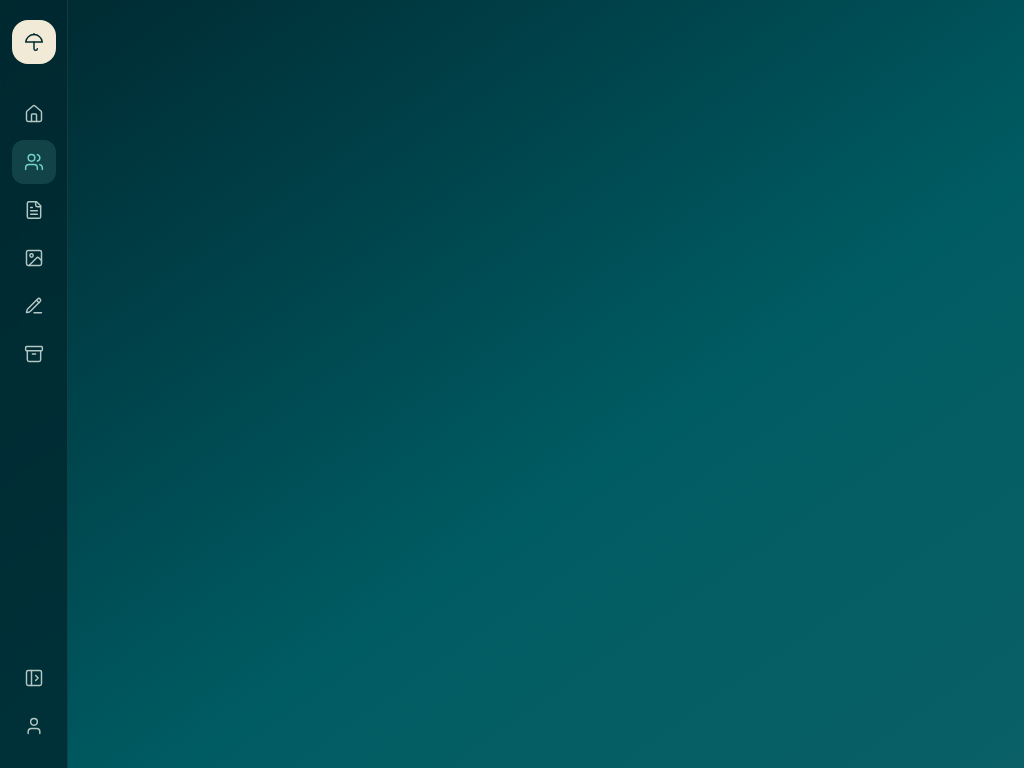
Test case: SideNav › starts collapsed and expands on toggle, persisting the choice
Click the button named "expand navigation": [34, 678] box x1=12 y1=656 x2=56 y2=700
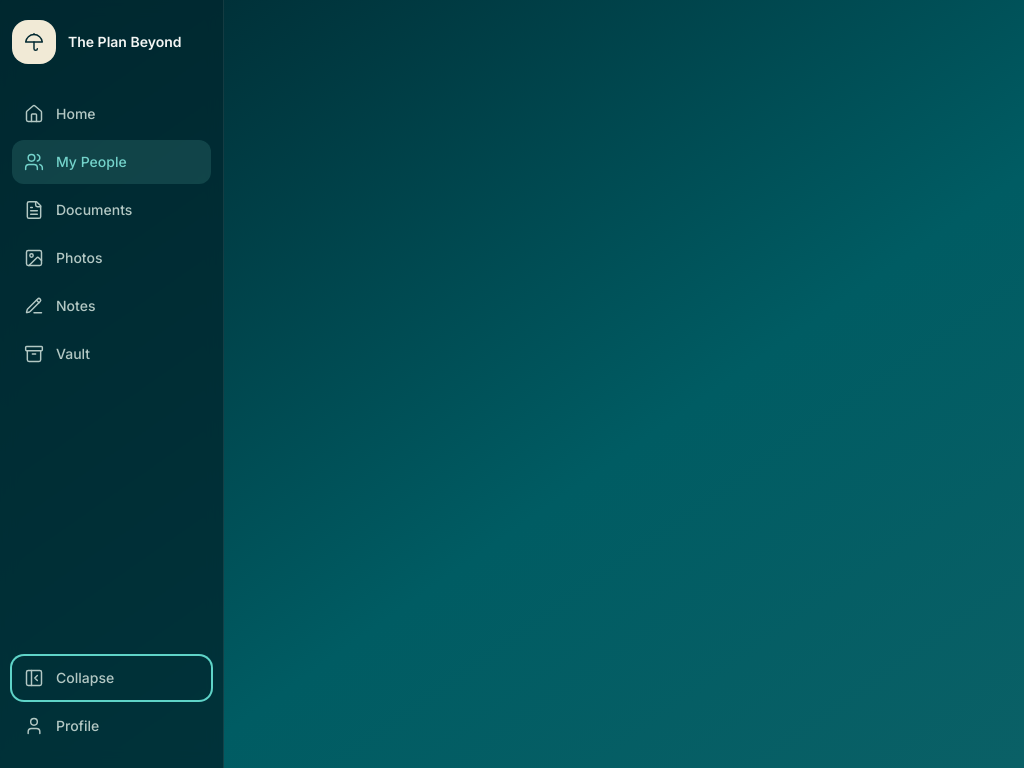
Expected: the button with aria-label "collapse navigation" is shown, x1=12 y1=656 x2=211 y2=700
Expected: the text "The Plan Beyond" is shown, x1=68 y1=33 x2=182 y2=50
